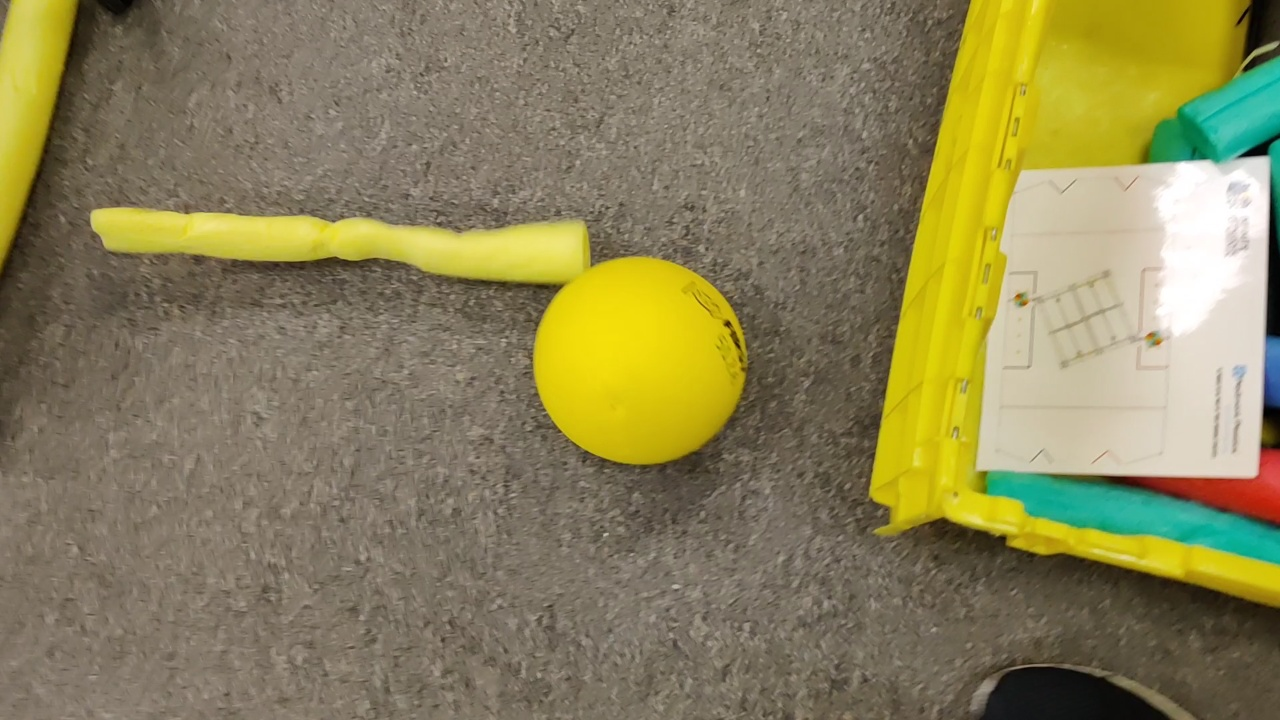Ball: (534, 257, 725, 461)
